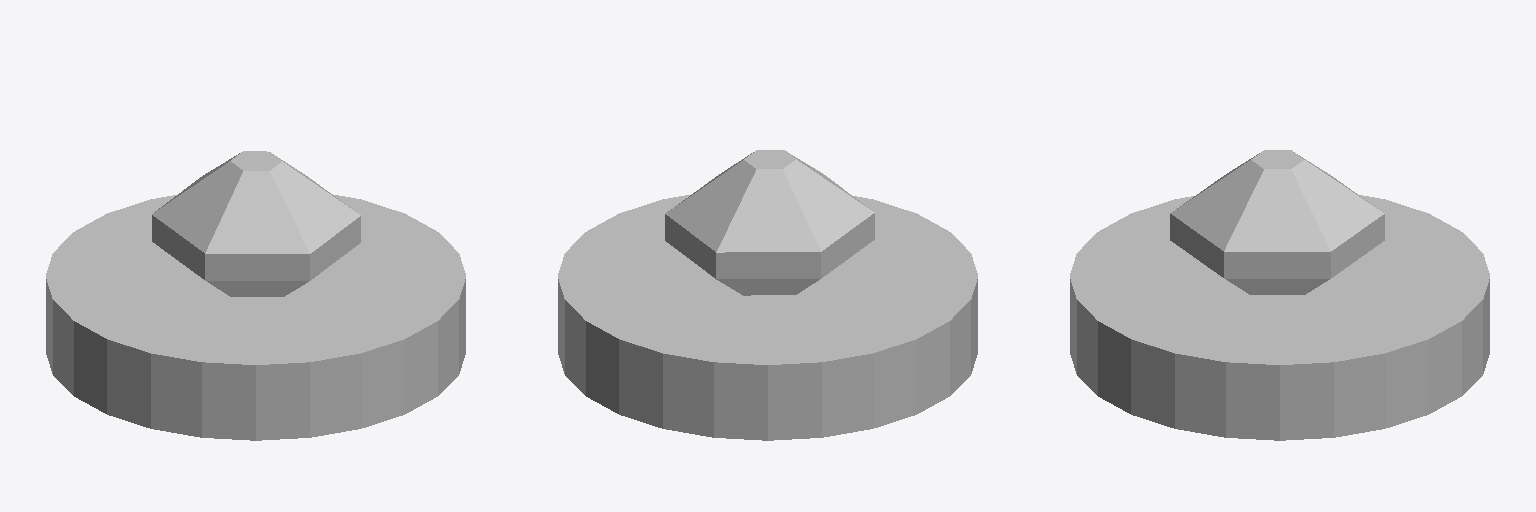
Rendered from gems_sapphire_2.obj.
3 views of the same model, side by side, from view 1: azimuth 30°, elevation 25°; view 2: azimuth 150°, elevation 25°; view 3: azimuth 270°, elevation 25° (orthographic).
Parts seen in each view (by area): view 1: mergedBlocks; view 2: mergedBlocks; view 3: mergedBlocks.
Part boxes in pixels (x1,y1,x2,y2): mergedBlocks: (46,151,465,440); mergedBlocks: (558,150,977,440); mergedBlocks: (1070,150,1489,440).
Size of the model in its own units: 1 by 0.5028 by 1.